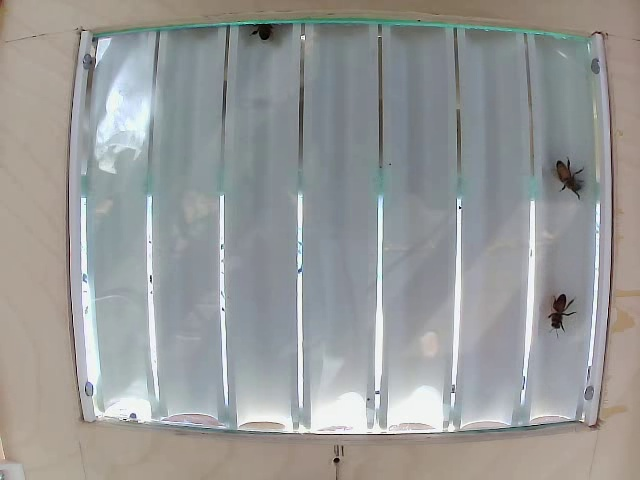bee: (546, 151, 586, 207), (541, 287, 579, 334)
